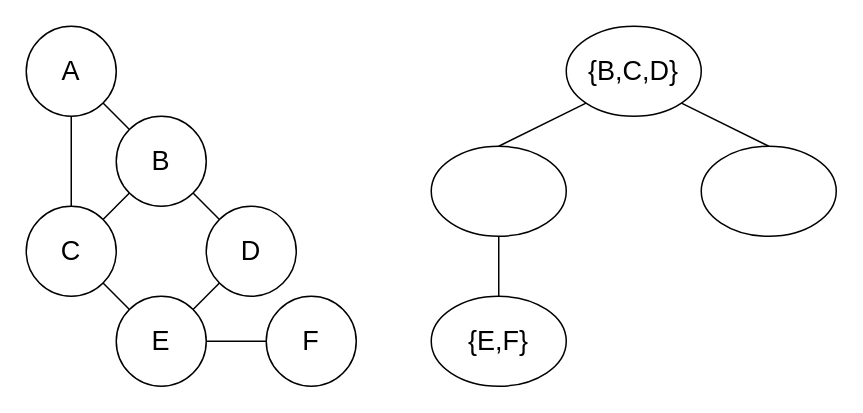
This 863x413 diagram has some shape labels left out. The shapes that lost their labels are listed below. From the top down, each one's box as (x1, y1, x2, y2) in pixels, then its label:
(430, 145, 566, 236): {C,D,E}
(700, 145, 836, 236): {A,B,C}
